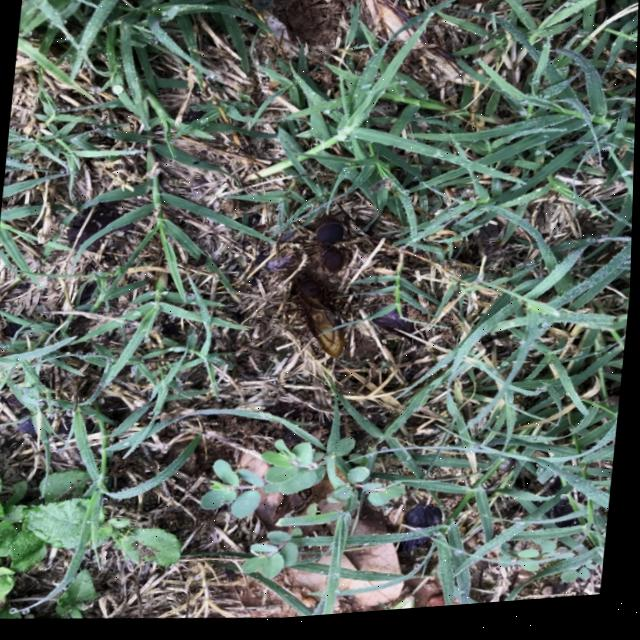Alive-Female-Dealate: (302, 219, 358, 286)
